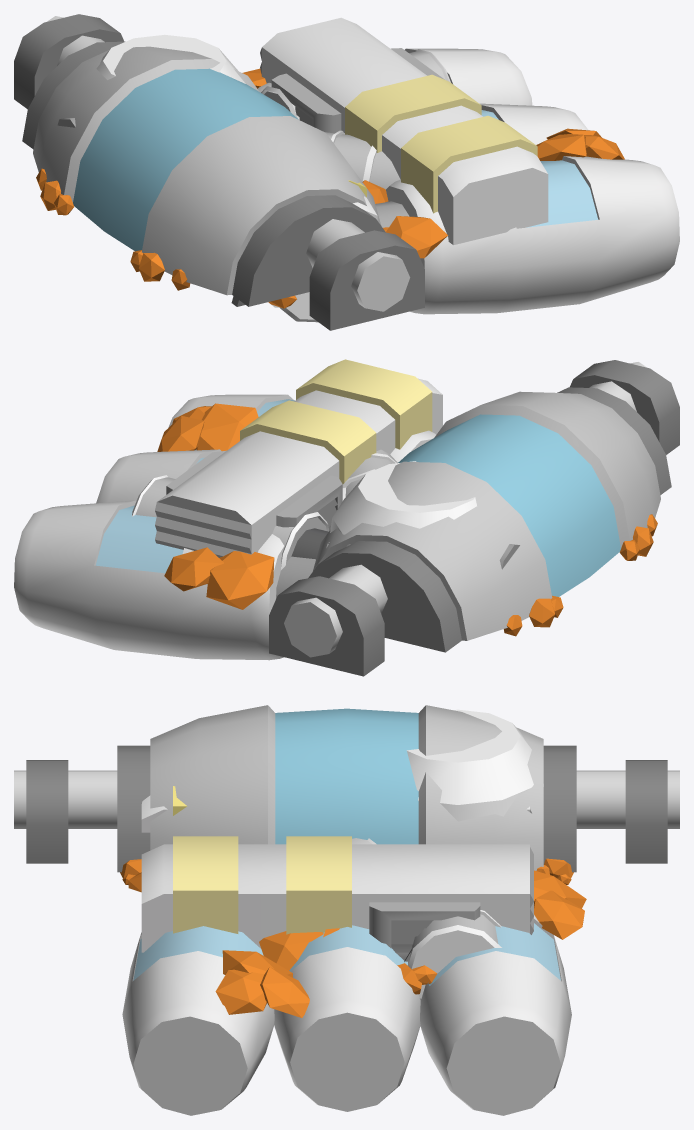
Rendered from Laboratory.glb.
3 views of the same model, one above another, from view 1: azimuth 30°, elevation 25°; view 2: azimuth 150°, elevation 25°; view 3: azimuth 270°, elevation 25° (orthographic).
Visible parts, largest first — view 1: Sphere, Cylinder.033, Cube.039, Cube.047, Tunnel.011, Cylinder.036, Cylinder.035, Cube.042; view 2: Sphere, Cylinder.033, Cube.039, Cube.047, Cube.041, Cylinder.035, Tunnel.011, Cylinder.036, Cube.042; view 3: Cylinder.033, Sphere, Cube.039, Cube.047, Cylinder.035, Tunnel.011, Cylinder.036, Cube.042, Cylinder.003, Cube.040, Cube.012.
Boxes of the visible parts, x1=… form: Sphere: x1=22, y1=41, x2=385, y2=306; Cylinder.033: x1=242, y1=48, x2=679, y2=314; Cube.039: x1=262, y1=17, x2=548, y2=245; Cube.047: x1=14, y1=14, x2=424, y2=330; Tunnel.011: x1=47, y1=16, x2=410, y2=311; Cylinder.036: x1=231, y1=49, x2=450, y2=322; Cylinder.035: x1=96, y1=34, x2=245, y2=83; Cube.042: x1=271, y1=48, x2=444, y2=133; Sphere: x1=308, y1=387, x2=671, y2=652; Cylinder.033: x1=14, y1=394, x2=435, y2=660; Cube.039: x1=157, y1=359, x2=442, y2=553; Cube.047: x1=269, y1=360, x2=679, y2=676; Cube.041: x1=155, y1=495, x2=251, y2=557; Cylinder.035: x1=330, y1=461, x2=476, y2=546; Tunnel.011: x1=284, y1=362, x2=646, y2=657; Cylinder.036: x1=132, y1=449, x2=397, y2=569; Cube.042: x1=166, y1=450, x2=342, y2=527; Cylinder.033: x1=122, y1=870, x2=586, y2=1115; Sphere: x1=117, y1=705, x2=576, y2=884; Cube.039: x1=141, y1=836, x2=529, y2=952; Cube.047: x1=26, y1=760, x2=667, y2=863; Cylinder.035: x1=406, y1=709, x2=543, y2=821; Tunnel.011: x1=14, y1=770, x2=679, y2=828; Cylinder.036: x1=352, y1=838, x2=501, y2=999; Cube.042: x1=369, y1=902, x2=480, y2=961; Cylinder.003: x1=259, y1=928, x2=339, y2=970; Cube.040: x1=391, y1=920, x2=433, y2=952; Cube.012: x1=141, y1=786, x2=529, y2=832.
Bounding box in the file's own units: 5.21 × 2.27 × 6.
Materials: 2 (2 with a texture image).
